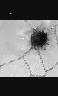good_void: (29, 26, 50, 51)
